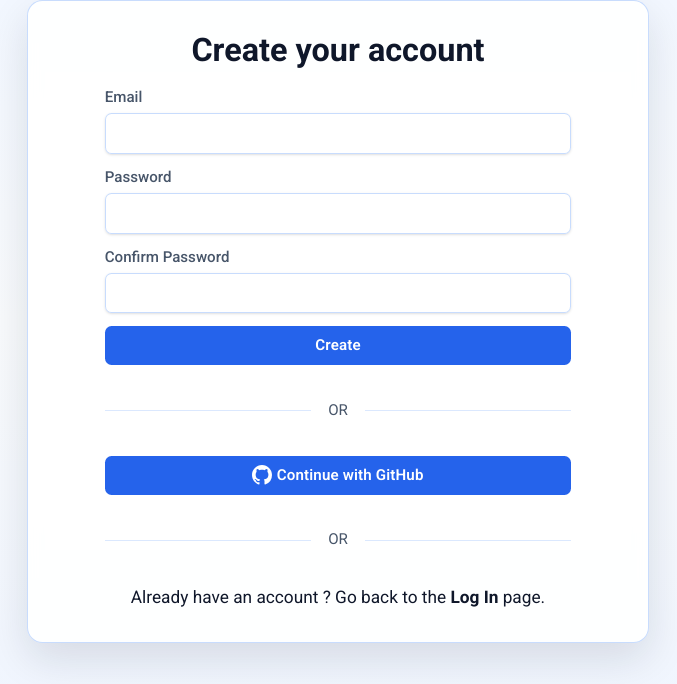
SignUp Form Validation on input › shows validation messages for password input
Type "pass" into the password field labelled "Password" at (338, 213), box [105, 193, 571, 234]
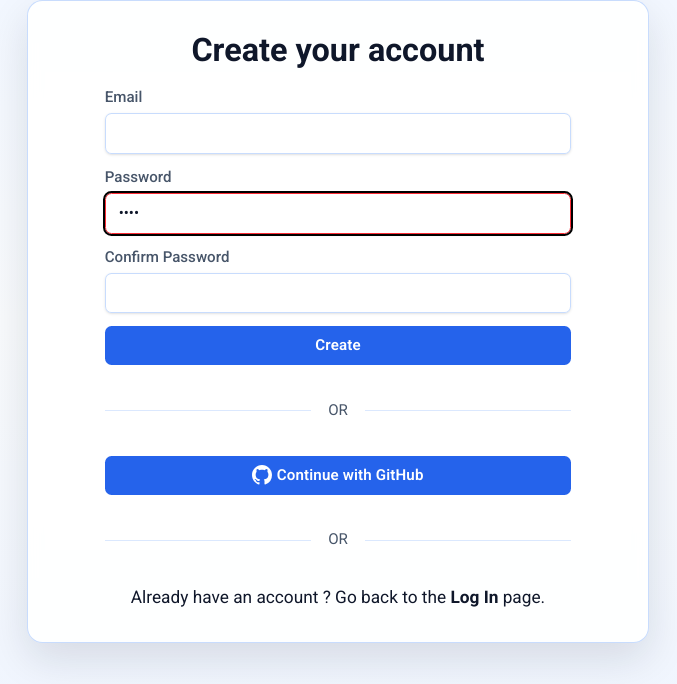
Type "word" into the password field labelled "Password" at (338, 213), box [105, 193, 571, 234]
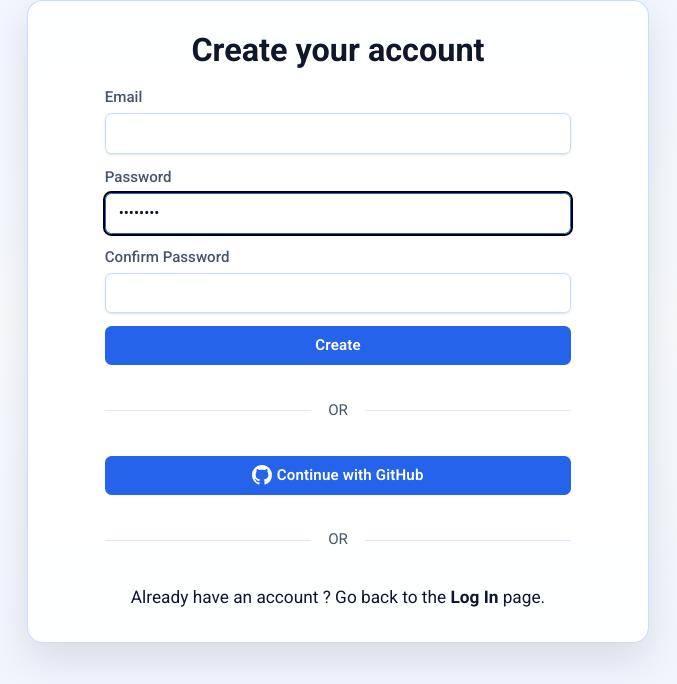
Expected: the password field labelled "Password" holds "password", [105, 193, 571, 234]
